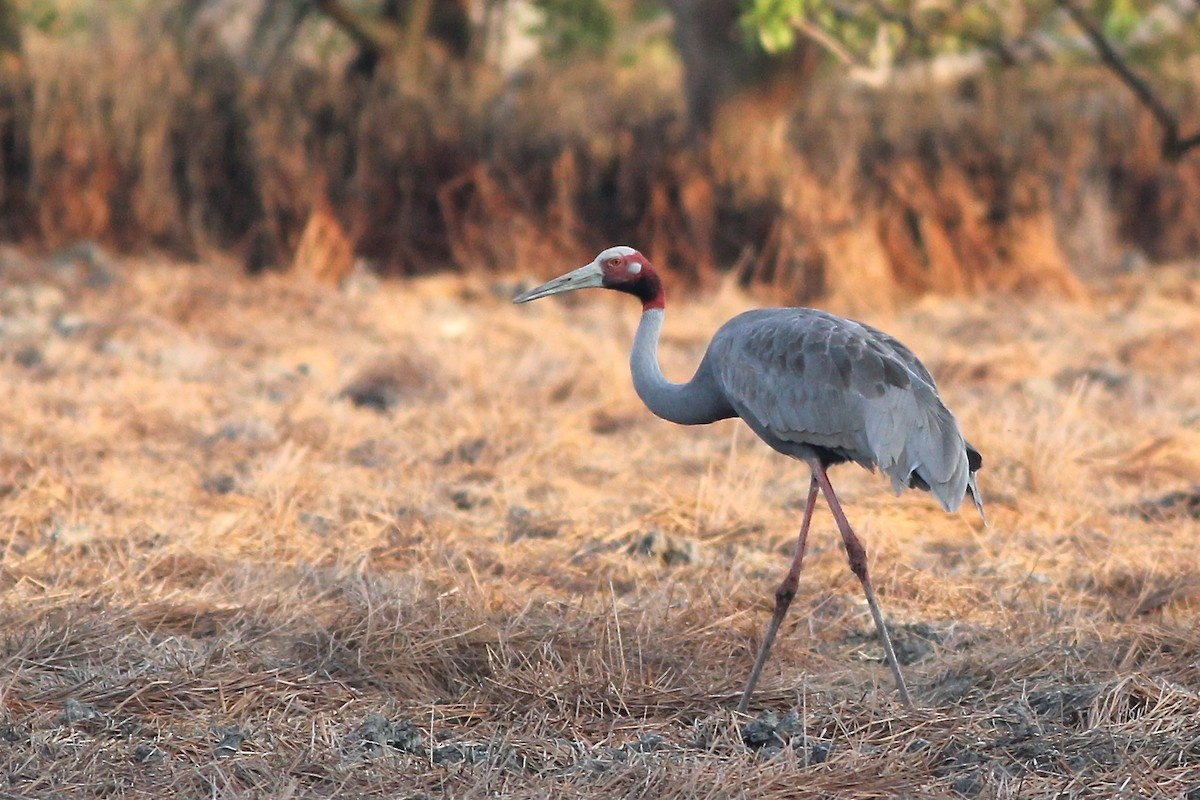crane: (515, 241, 996, 721)
